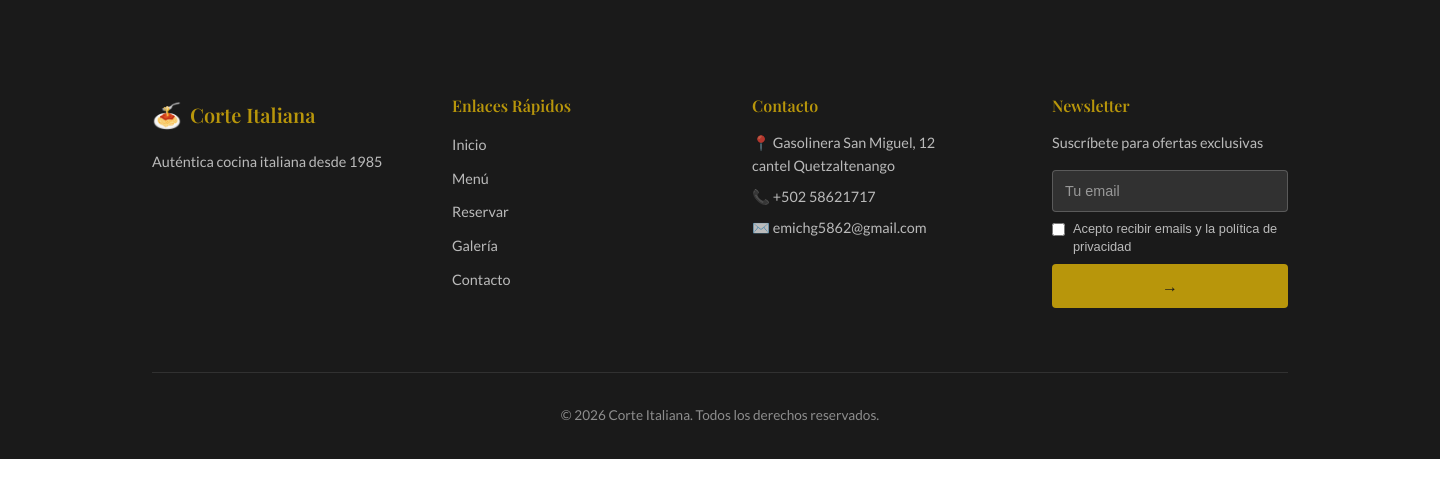
Footer › shows error when email is invalid
The width and height of the screenshot is (1440, 504).
Step 1. Type "invalido" into the field with placeholder "Tu email" → (1170, 191), box left=1052, top=170, right=1288, bottom=212
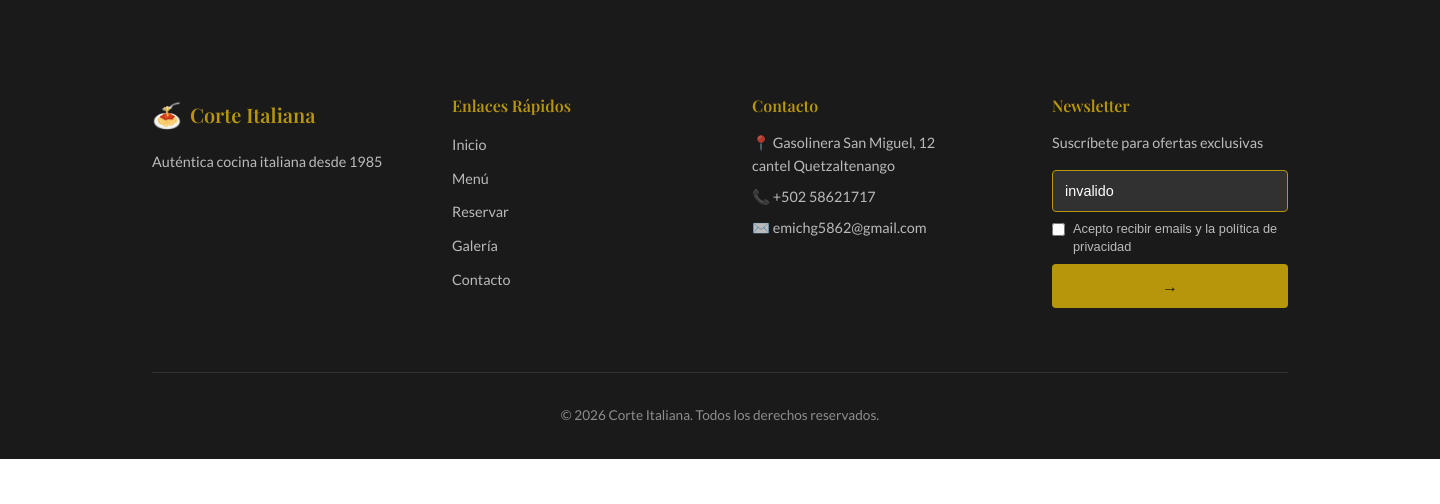
Step 2. Click the checkbox → (1058, 230), box left=1052, top=223, right=1065, bottom=236
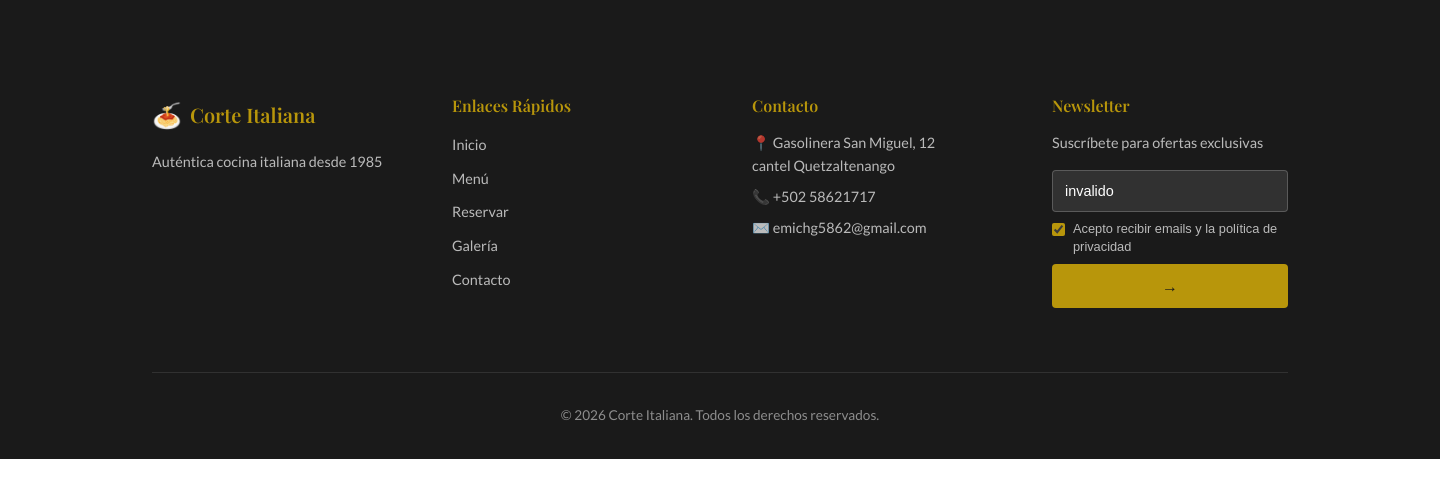
Step 3. Click the button "→" → (1170, 286), box left=1052, top=264, right=1288, bottom=308
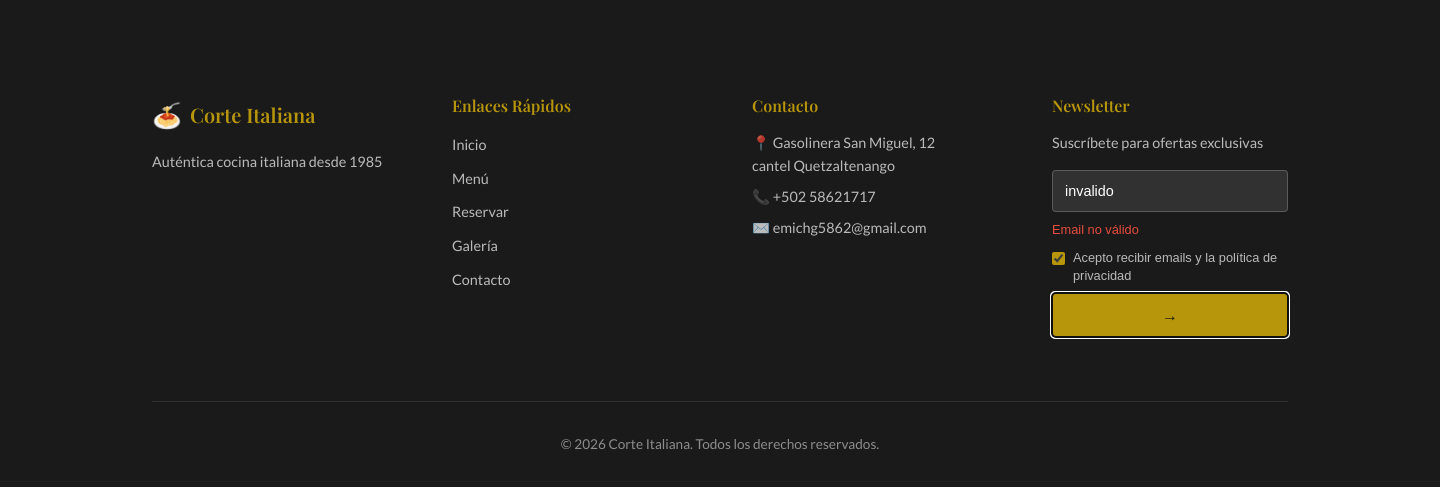
Now the text "Email no válido" is shown, box left=1052, top=222, right=1139, bottom=237
